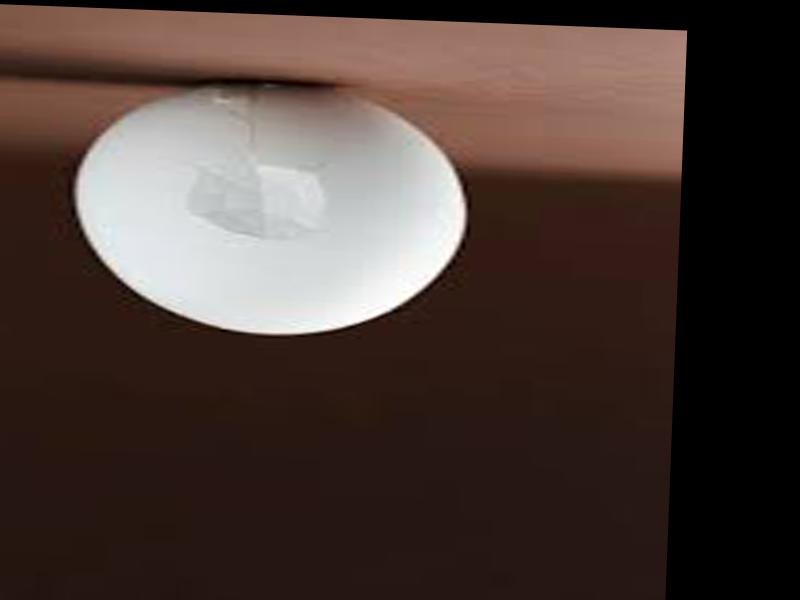Eggs: (75, 74, 470, 342)
